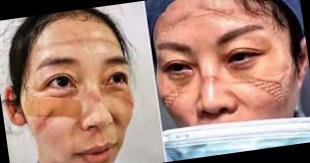mask_weared_incorrect: (155, 17, 302, 156)
without_mask: (31, 44, 142, 163)
